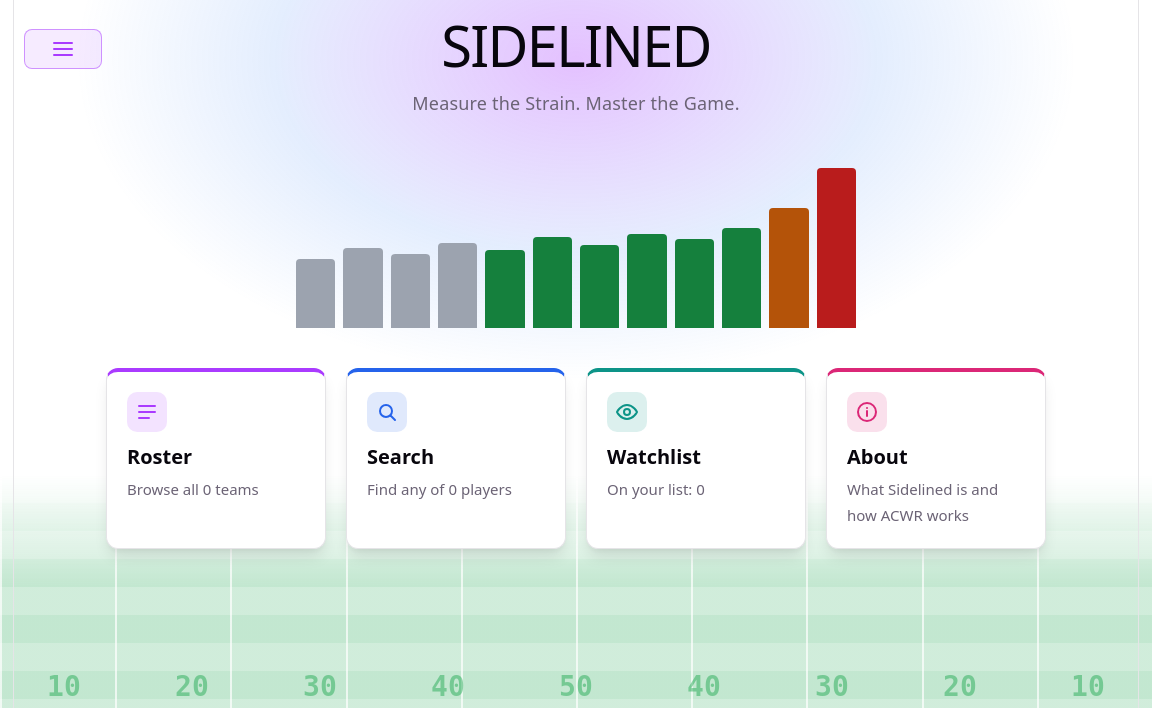
Test: homepage navigation › renders a Roster item in the nav menu that navigates to the Rosters page
This screenshot has width=1152, height=708.
Step 1. Click the button named "Toggle navigation menu" → (63, 49), box [24,29,102,69]
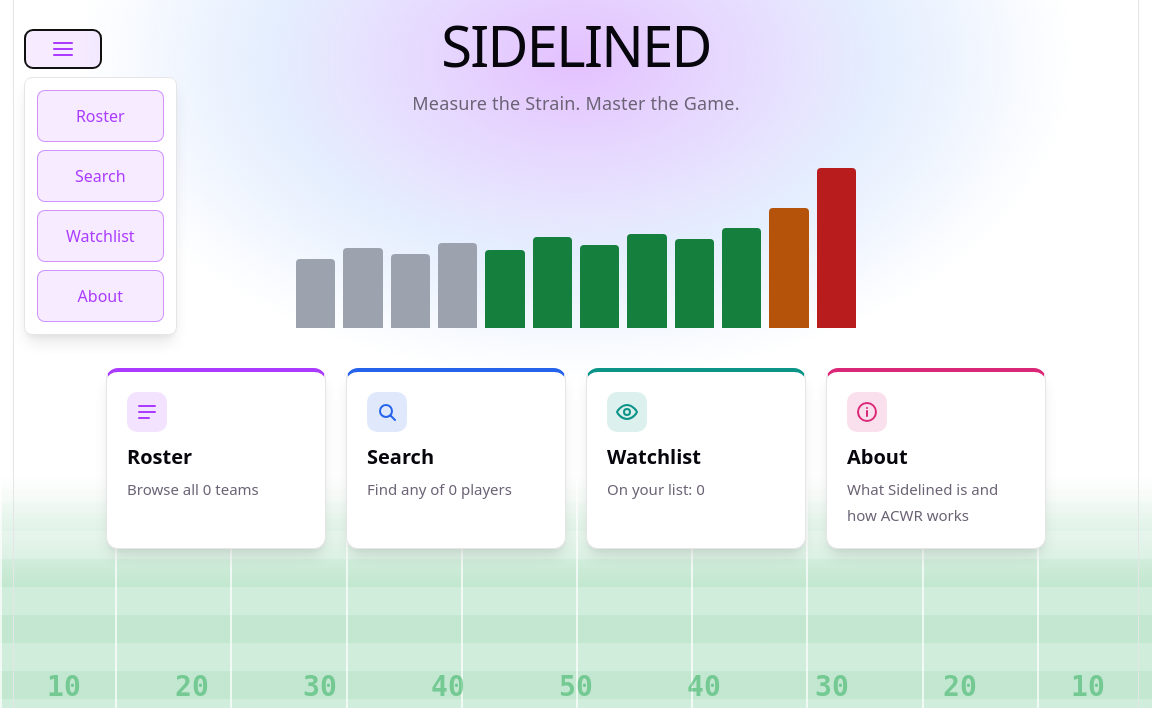
Step 2. Click the menu item "Roster" → (100, 116), box [37,90,164,142]
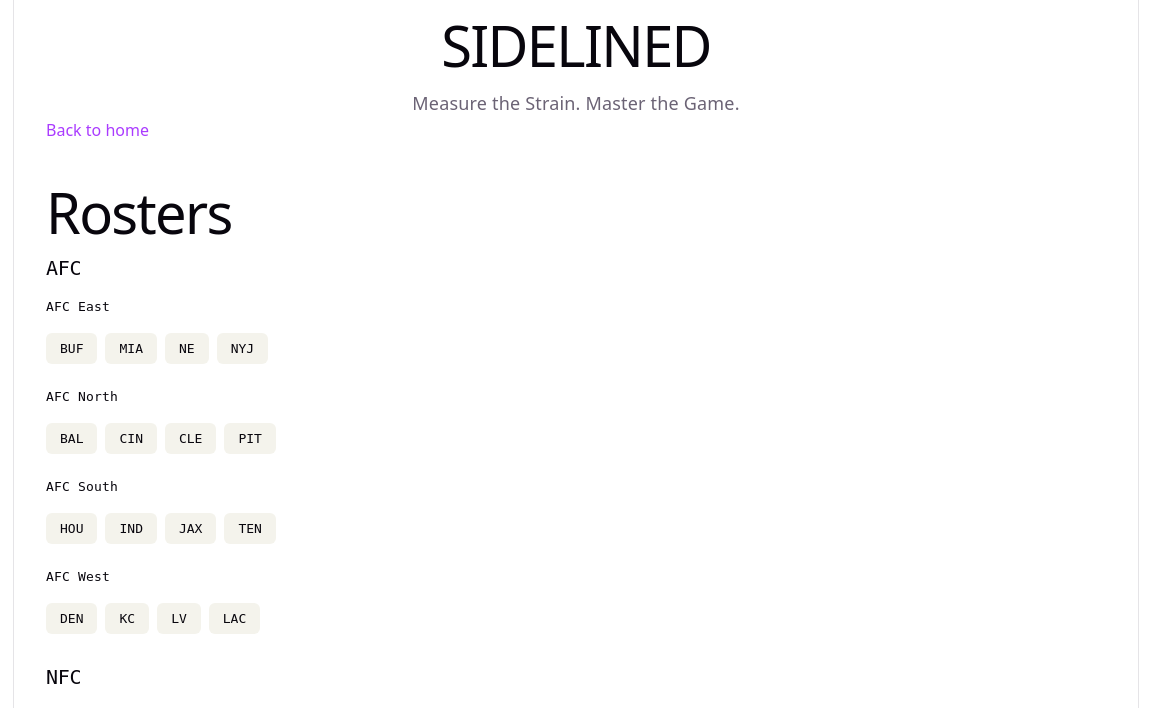
Check: the heading "Rosters" is shown, box [46,174,232,250]
